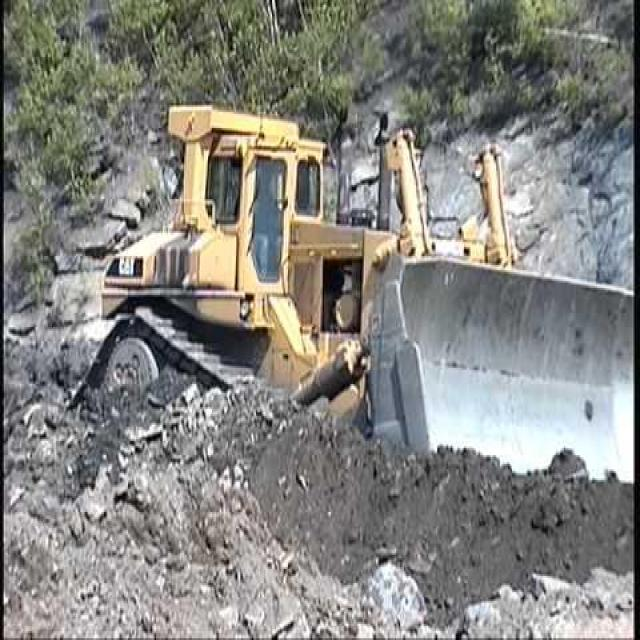Bulldozer: (62, 82, 638, 585)
